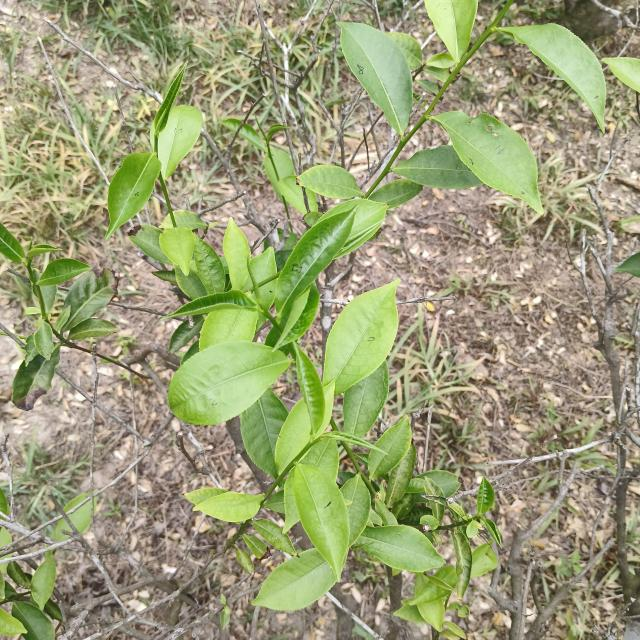Leaf: (498, 23, 606, 132), (432, 111, 542, 213), (168, 341, 289, 424), (275, 205, 354, 319), (324, 280, 399, 394), (338, 22, 412, 134), (293, 464, 349, 579), (252, 548, 336, 610), (105, 153, 161, 239), (241, 389, 288, 478), (319, 199, 388, 257), (393, 145, 482, 189), (342, 360, 389, 437), (62, 269, 118, 332), (424, 0, 477, 64), (158, 106, 202, 179), (271, 283, 319, 349), (12, 345, 60, 411), (292, 343, 326, 436), (153, 63, 186, 152), (275, 399, 311, 475), (368, 415, 411, 478), (166, 290, 258, 318), (297, 165, 362, 199), (194, 491, 264, 522), (340, 476, 371, 545), (223, 217, 250, 290), (386, 444, 416, 507), (159, 227, 196, 275), (127, 224, 171, 264), (410, 566, 456, 604), (194, 238, 225, 294), (12, 601, 55, 640), (369, 179, 422, 209), (253, 519, 296, 555), (30, 552, 56, 610), (408, 470, 460, 497), (39, 259, 91, 286), (452, 529, 472, 599), (170, 315, 206, 352), (387, 32, 422, 70), (602, 57, 640, 92), (68, 318, 118, 340), (279, 176, 307, 215), (176, 267, 207, 300), (0, 223, 25, 262), (471, 544, 498, 578), (236, 123, 266, 152), (34, 318, 54, 360), (69, 501, 91, 534), (0, 609, 26, 636), (6, 561, 31, 589), (479, 517, 502, 546), (174, 210, 208, 229), (477, 478, 494, 515), (242, 534, 266, 560), (394, 604, 424, 623), (64, 493, 89, 515), (423, 62, 450, 82), (235, 548, 254, 574), (27, 244, 61, 258), (426, 53, 454, 69), (52, 519, 72, 541), (416, 79, 439, 95), (221, 118, 242, 129), (160, 215, 171, 229), (310, 201, 317, 211)
